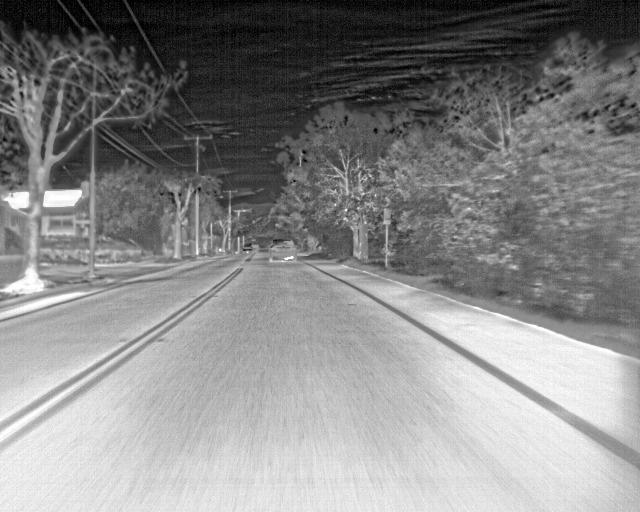car: (268, 241, 298, 262), (241, 244, 253, 256)
